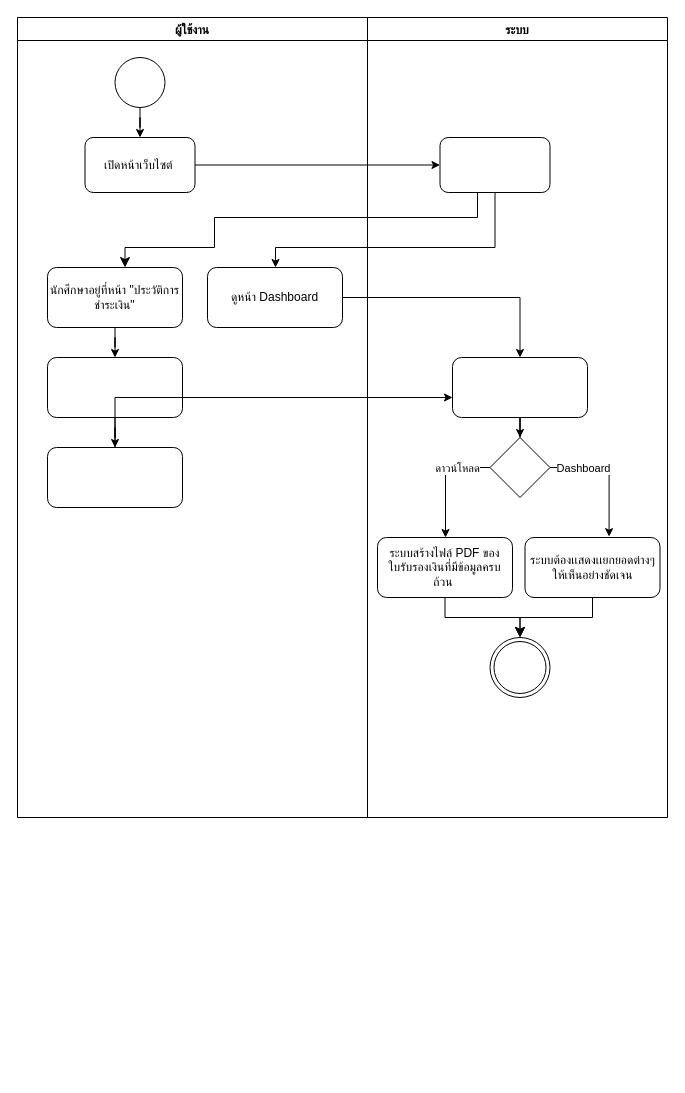
Some shapes in this 685 by 1093 pixel diagram are drawn without their labels. The centre of each missing label's shape, as x and y in pixels:
กดปุ่ม "ดาวน์โหลดใบเสร็จ": point 114,477
ระบบตรวจสอบข้อมูล: point 520,387
เลือกรายการที่ชำระเงินเสร็จ: point 114,387
เเสดงหน้าเข้าสู่ระบบ: point 494,164
